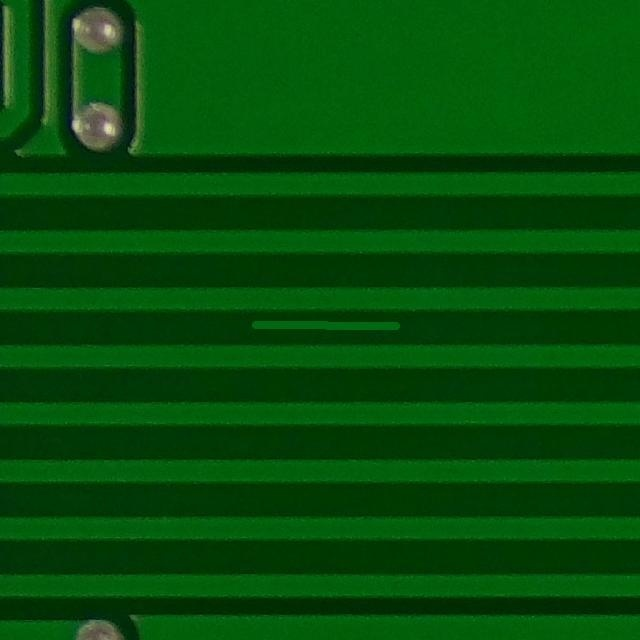spurious_copper: (234, 295, 406, 346)
